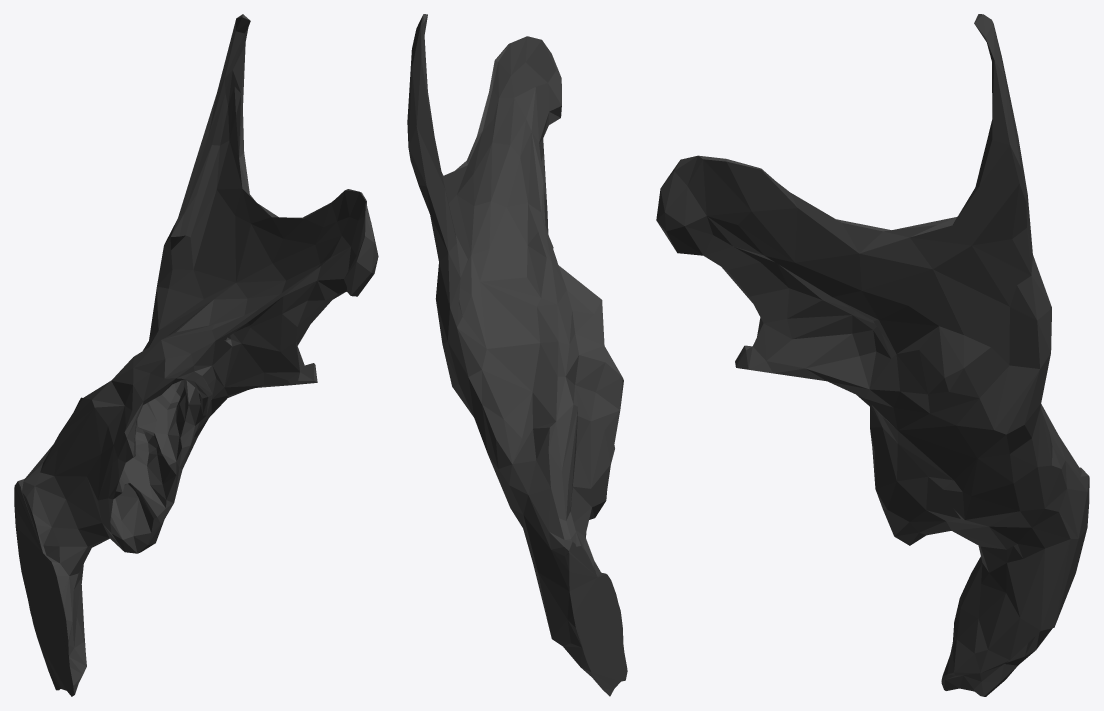
Rendered from chin_skull_L_018_1.glb.
3 views of the same model, side by side, from view 1: azimuth 30°, elevation 25°; view 2: azimuth 150°, elevation 25°; view 3: azimuth 270°, elevation 25° (orthographic). The views are drawn at different scales.
Parts seen in each view (by area): view 1: chin_skull_L_018_1; view 2: chin_skull_L_018_1; view 3: chin_skull_L_018_1.
Boxes of the visible parts, x1,y1,x2,y2 form: chin_skull_L_018_1: (14, 14, 378, 696); chin_skull_L_018_1: (407, 14, 627, 696); chin_skull_L_018_1: (656, 14, 1089, 696).
Bounding box in the file's own units: 0.5719 × 1.69 × 0.8333.
Materials: 1 (1 with a texture image).
